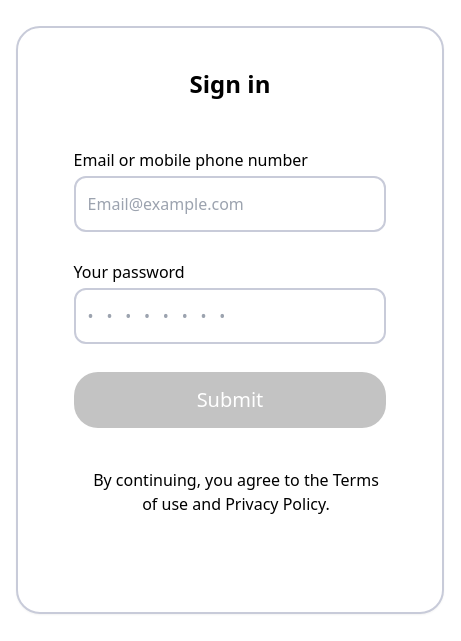
Test: password input valied
Type "1234567" into the password field labelled "Your password". click: (230, 316)
box: [74,288,386,344]
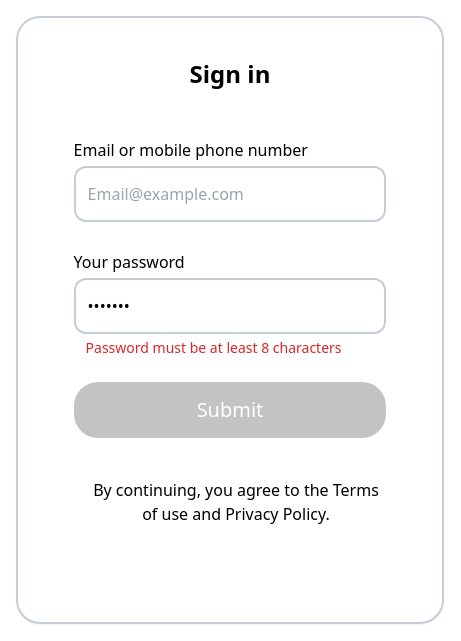
Now the text "Password must be at least 8 characters" is shown, box [86,338,342,357]
